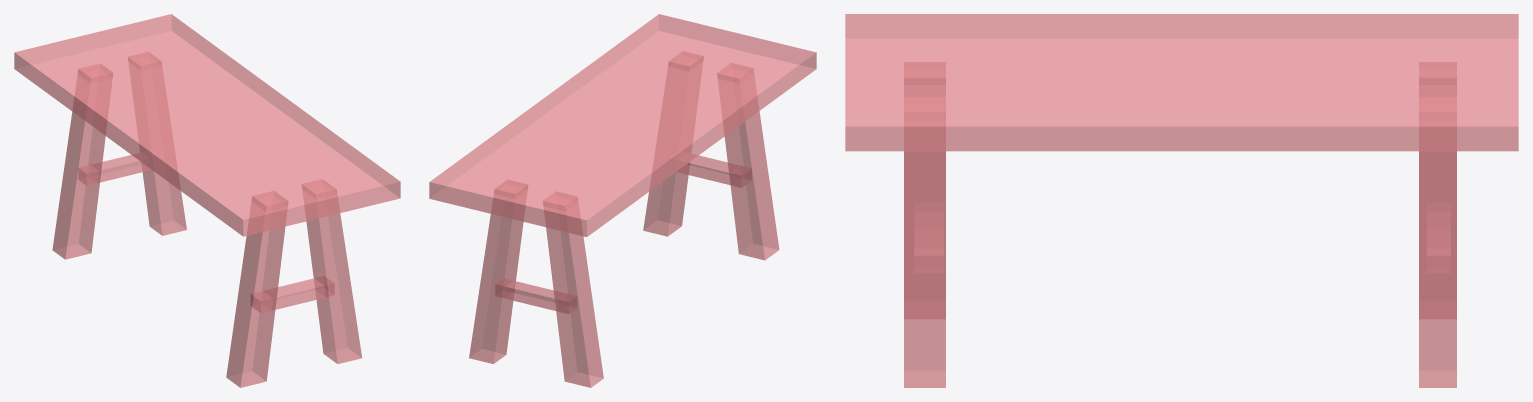
The model's file is KitchenTable_01_collision.DAE.
The picture shows the model from 3 angles, left to right: view 1: azimuth 30°, elevation 25°; view 2: azimuth 150°, elevation 25°; view 3: azimuth 270°, elevation 25°; orthographic projection. The views are drawn at different scales.
Parts seen in each view (by area): view 1: KitchenTable_01_collision; view 2: KitchenTable_01_collision; view 3: KitchenTable_01_collision.
Boxes of the visible parts, x1,y1,x2,y2 form: KitchenTable_01_collision: (14,14,400,387); KitchenTable_01_collision: (429,14,816,387); KitchenTable_01_collision: (845,14,1518,387).
Size of the model in its own units: 72.11 by 182 by 81.85.
